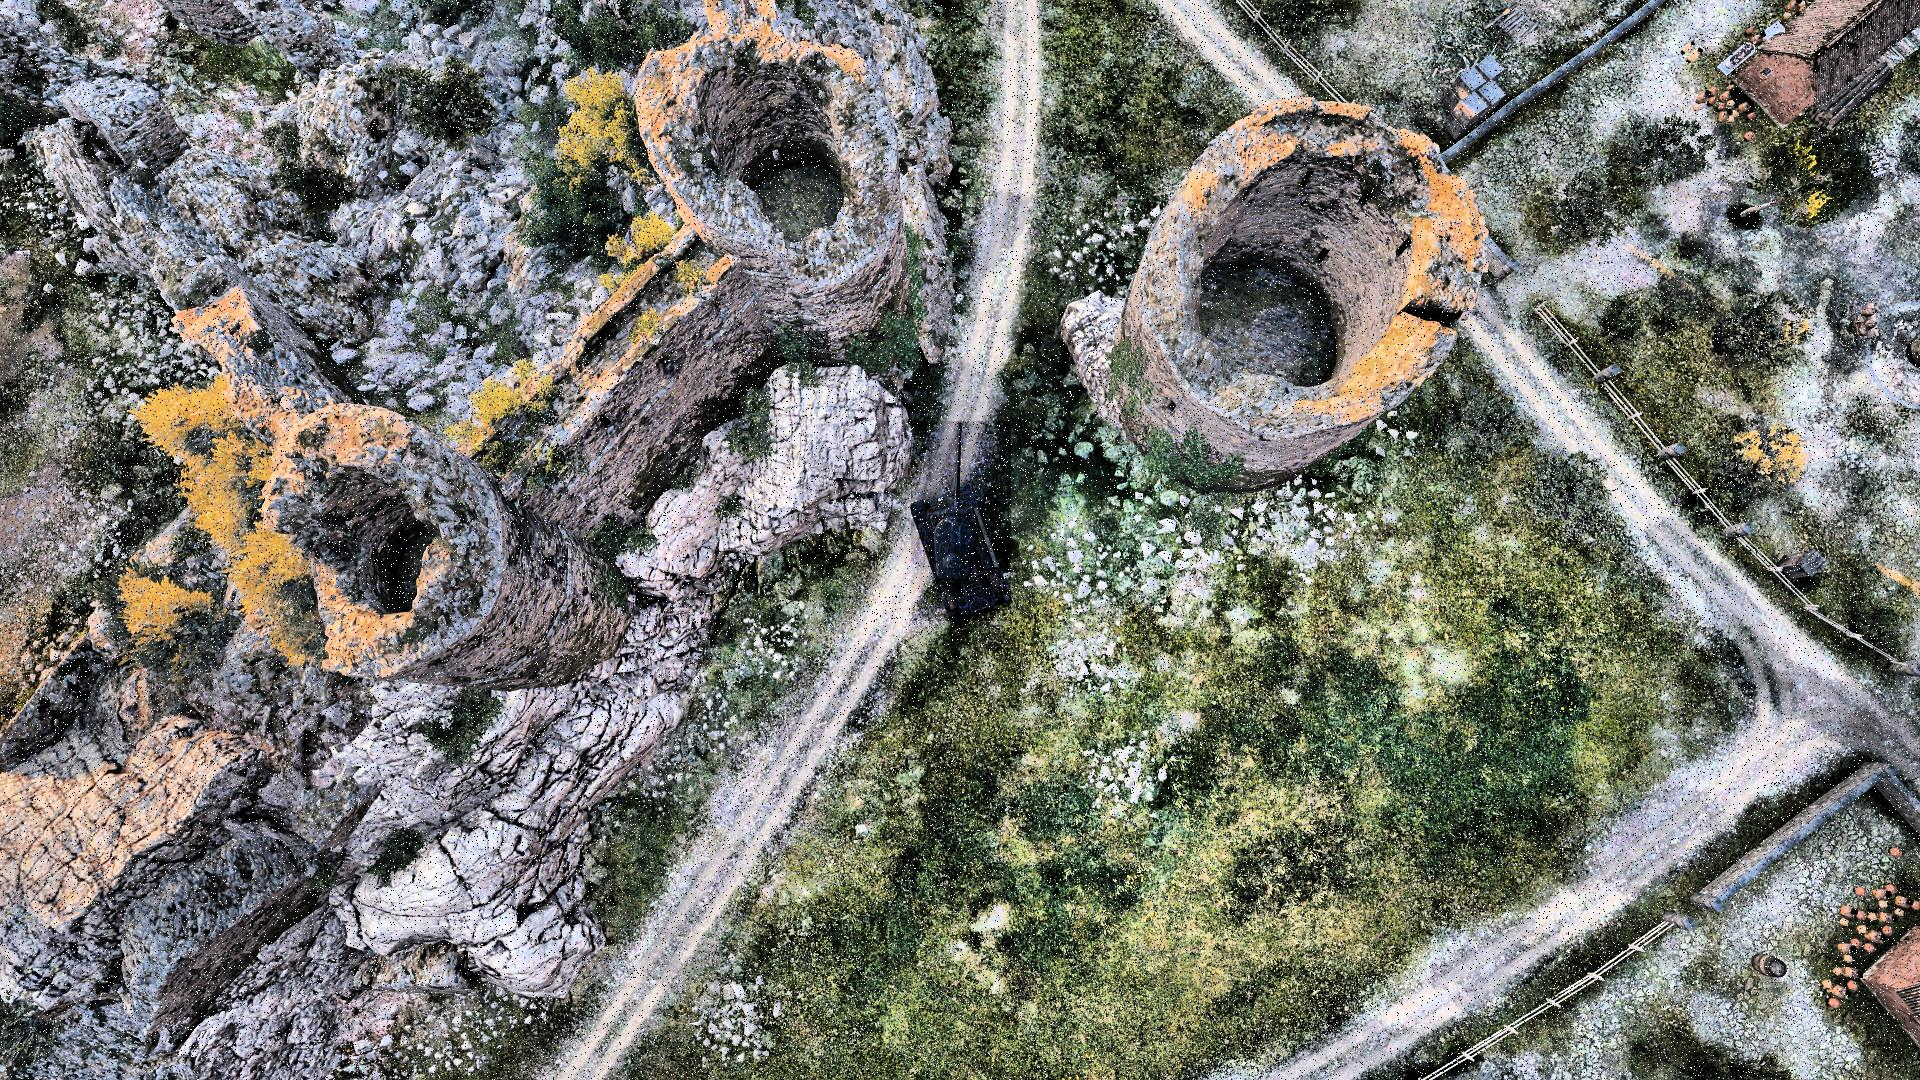military-vehicle: (911, 422, 1011, 621)
